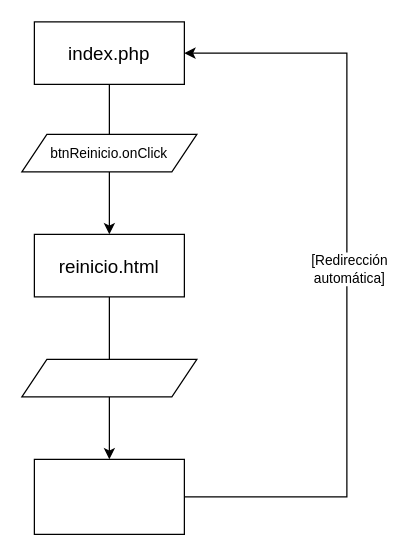
Some shapes in this 409 by 556 pixel diagram are drawn without their labels. The box of each missing label's shape, as (x1, y1, x2, y2) in pixels:
btnEnviar.onClick: (21, 358, 197, 397)
reincio.php: (33, 458, 184, 534)
